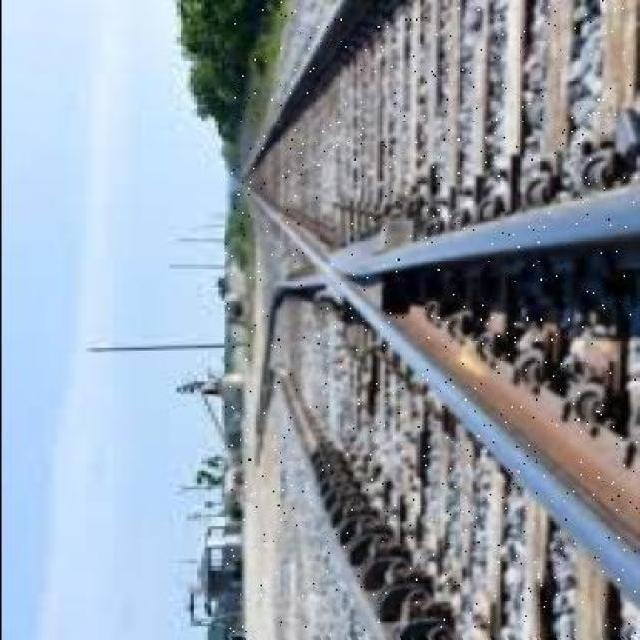rail: (226, 2, 640, 639)
